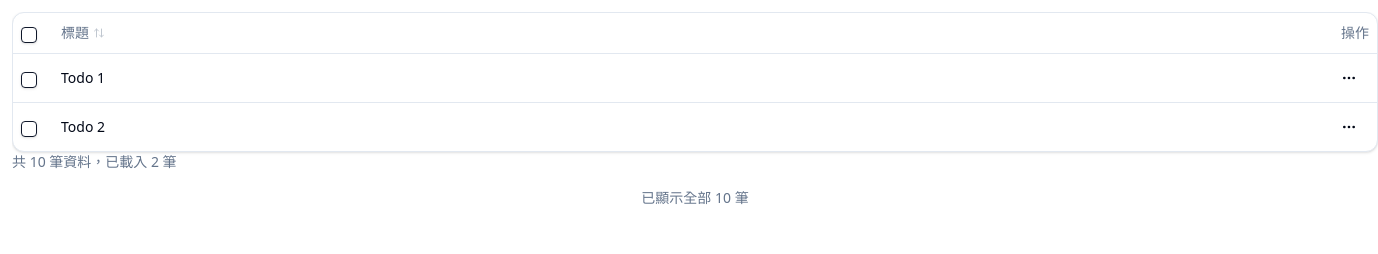
Test: Sprint B5 — CrudListClient Toolbar 整合 › 選中 row 後顯示「已選 N 筆」
Click the checkbox with test id "row-checkbox". click: (29, 80)
box: left=21, top=72, right=37, bottom=88
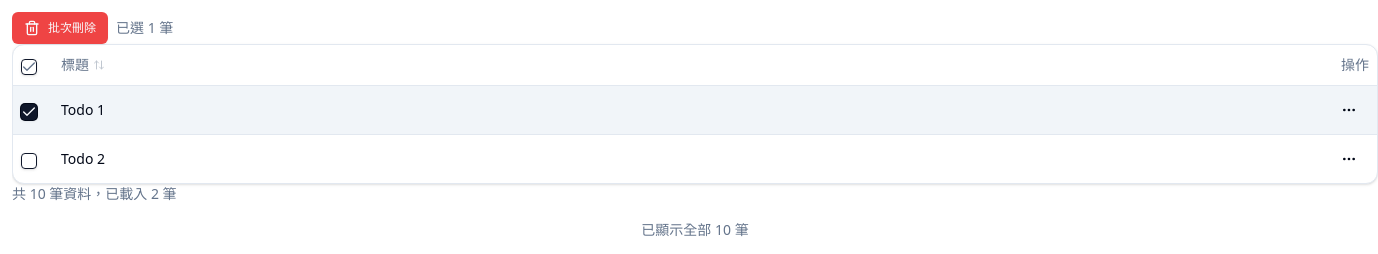
Click the checkbox with test id "row-checkbox". click: (29, 160)
box: left=21, top=152, right=37, bottom=168
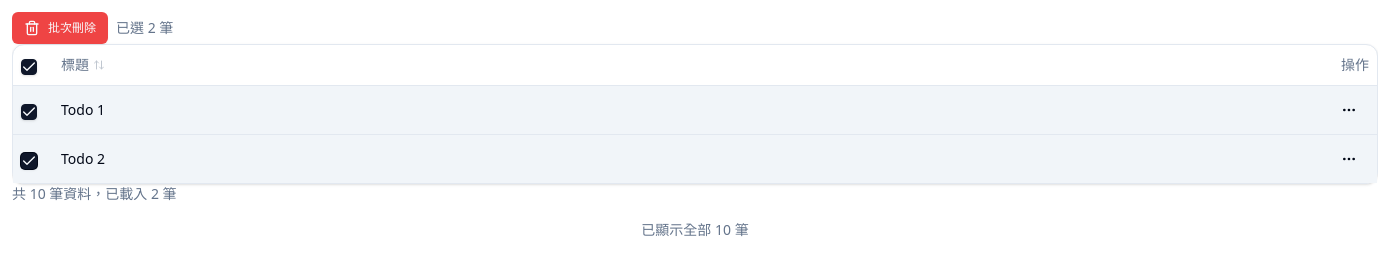
Result: the text with test id "selection-count" shows "2" at left=148, top=18, right=156, bottom=37
